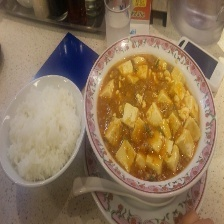rice: (0, 81, 82, 181)
